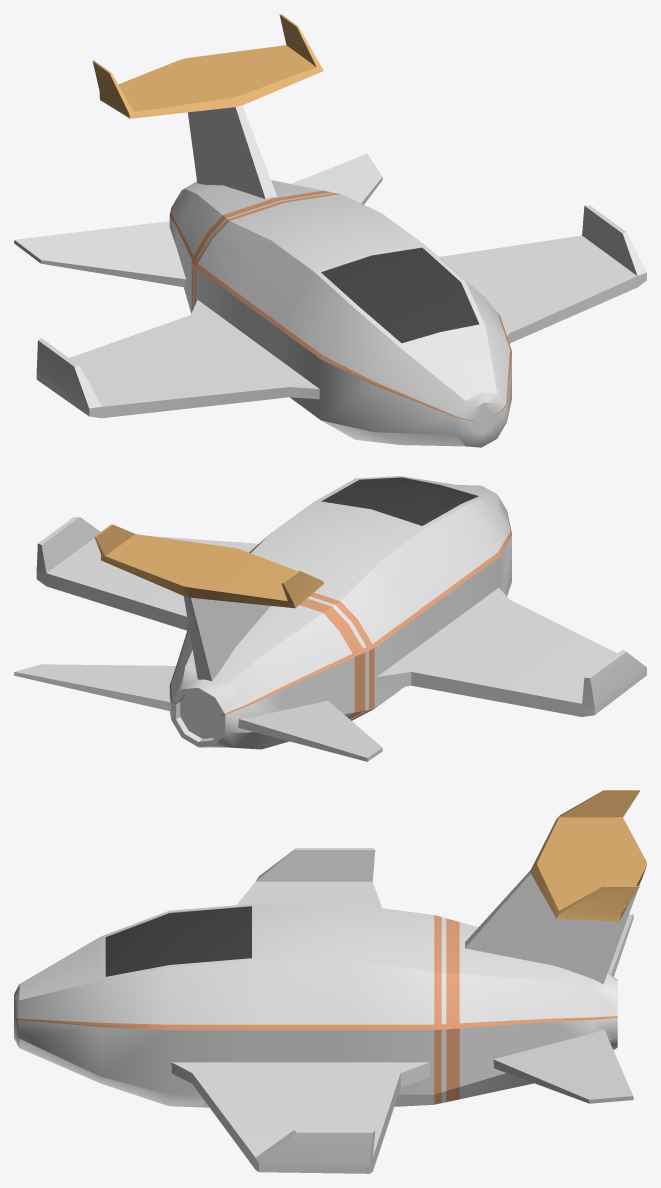
The model's file is ship_7.fbx.
3 renders of one model, top to bottom at view 1: azimuth 30°, elevation 25°; view 2: azimuth 150°, elevation 25°; view 3: azimuth 270°, elevation 25°, orthographic. The views are drawn at different scales.
Visible parts, largest first — view 1: Body, Wings, Wing_Back; view 2: Body, Wings, Wing_Back; view 3: Body, Wings, Wing_Back.
Boxes of the visible parts, box(x1,y1,x2,y2) form: Body: box(169, 180, 511, 447); Wings: box(36, 205, 646, 418); Wing_Back: box(14, 14, 382, 287); Body: box(169, 476, 511, 749); Wings: box(36, 517, 646, 716); Wing_Back: box(14, 524, 382, 761); Body: box(14, 903, 617, 1107); Wings: box(171, 848, 429, 1173); Wing_Back: box(465, 790, 646, 1103).
Bounding box in the file's own units: 852 × 338 × 792.
